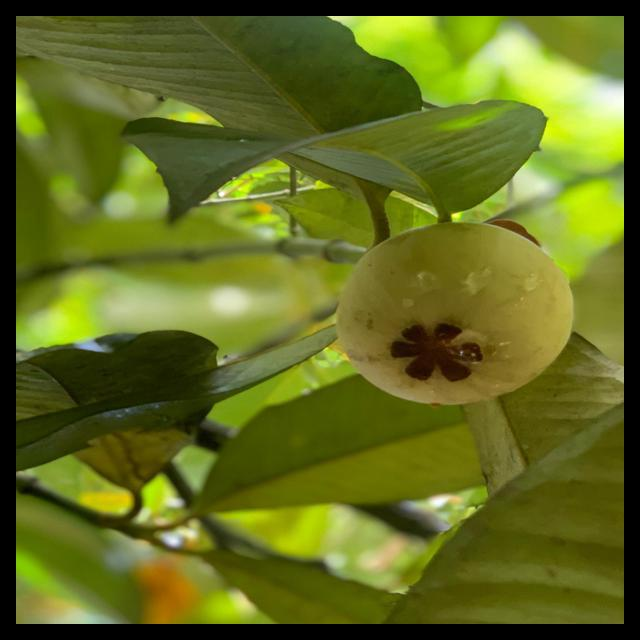mangosteen: (272, 149, 587, 463)
